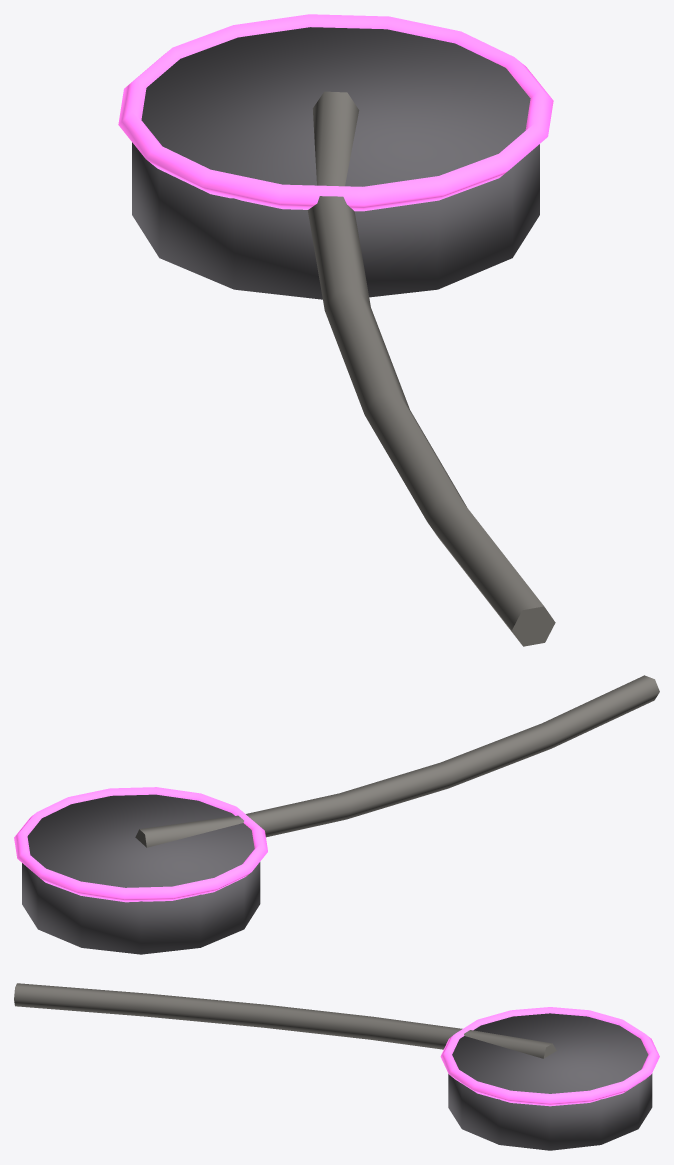
The model's file is alien_translator_booth.glb.
3 views of the same model, one above another, from view 1: azimuth 30°, elevation 25°; view 2: azimuth 150°, elevation 25°; view 3: azimuth 270°, elevation 25° (orthographic). The views are drawn at different scales.
Parts seen in each view (by area): view 1: TRN_Podium, TRN_Cable, TRN_PodiumRing; view 2: TRN_Podium, TRN_Cable, TRN_PodiumRing; view 3: TRN_Podium, TRN_Cable, TRN_PodiumRing.
Boxes of the visible parts, box(x1,y1,x2,y2) form: TRN_Podium: box(132, 27, 539, 299); TRN_Cable: box(307, 91, 555, 646); TRN_PodiumRing: box(118, 14, 553, 211); TRN_Podium: box(22, 794, 260, 954); TRN_Cable: box(135, 675, 659, 847); TRN_PodiumRing: box(14, 787, 267, 902); TRN_Podium: box(448, 1013, 652, 1150); TRN_Cable: box(14, 983, 556, 1058); TRN_PodiumRing: box(440, 1007, 659, 1106).
Size of what is drawn, in the model's own units: 3.25 by 0.7034 by 6.65.
1 material, 1 textured.
